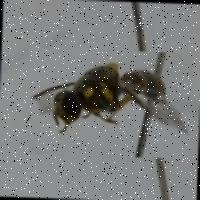Oriental-fruit-fly: (28, 46, 194, 158)
